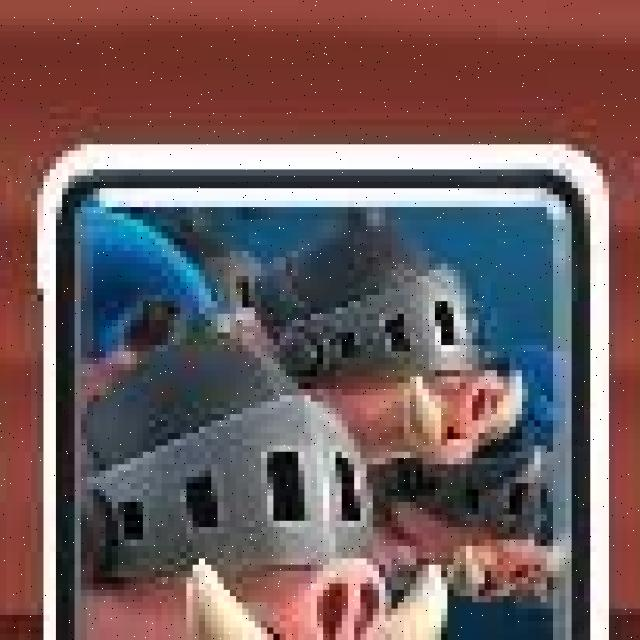Royal_Hogs: (46, 155, 609, 640)
